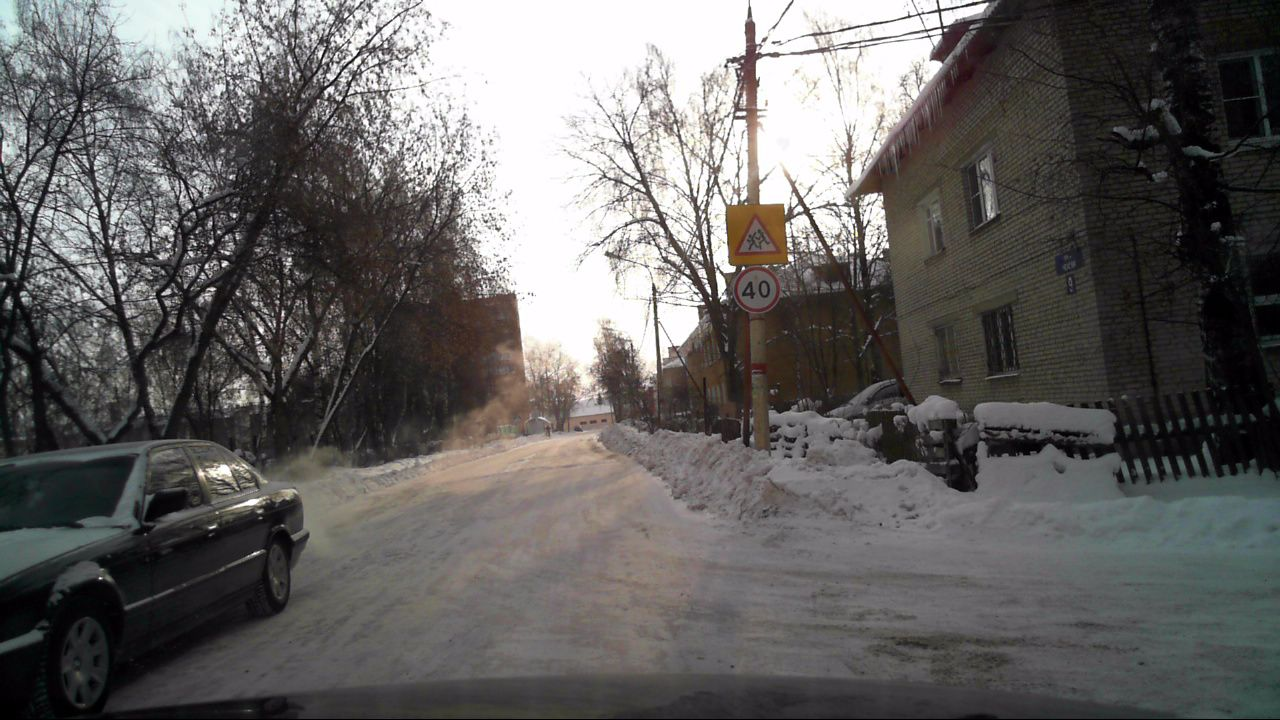speed_warning_40: (733, 268, 779, 313)
